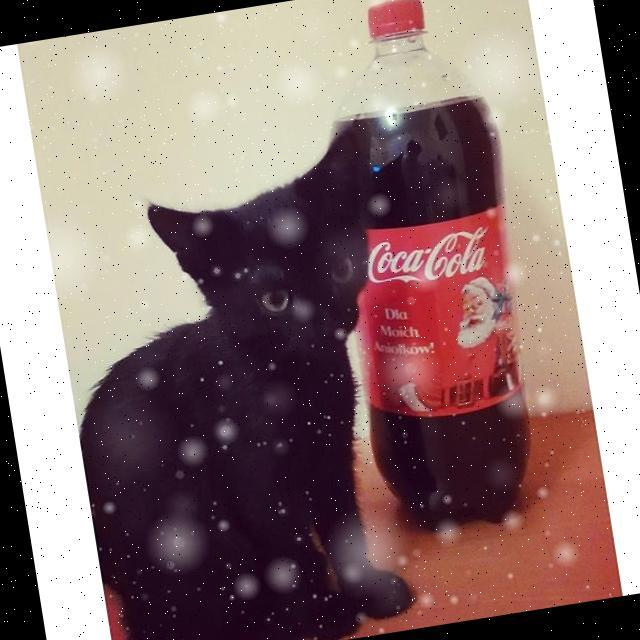coca-cola: (298, 0, 561, 541)
